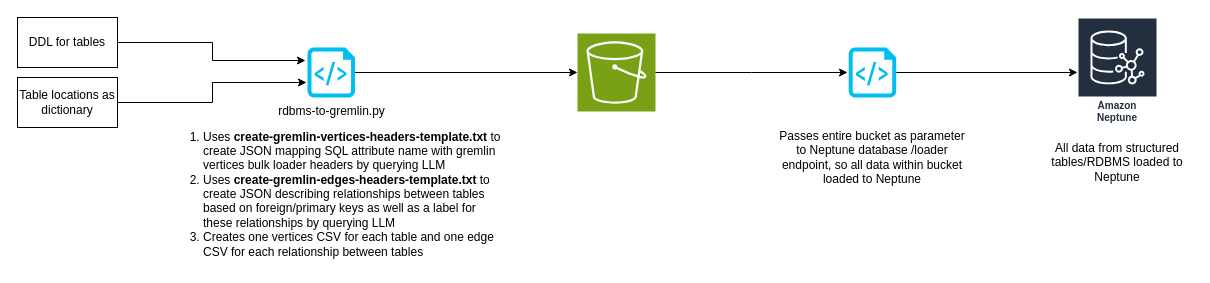
This 1210x283 diagram has some shape labels left out. The shapes that lost their labels are listed below. From the top down, each one's centre as x and y in pixels, then its label:
At pixel 616 72: "S3 bucket containing Gremlin Bulk load CSV for structured data".
At pixel 872 72: "rdb_to_neptune.py".
